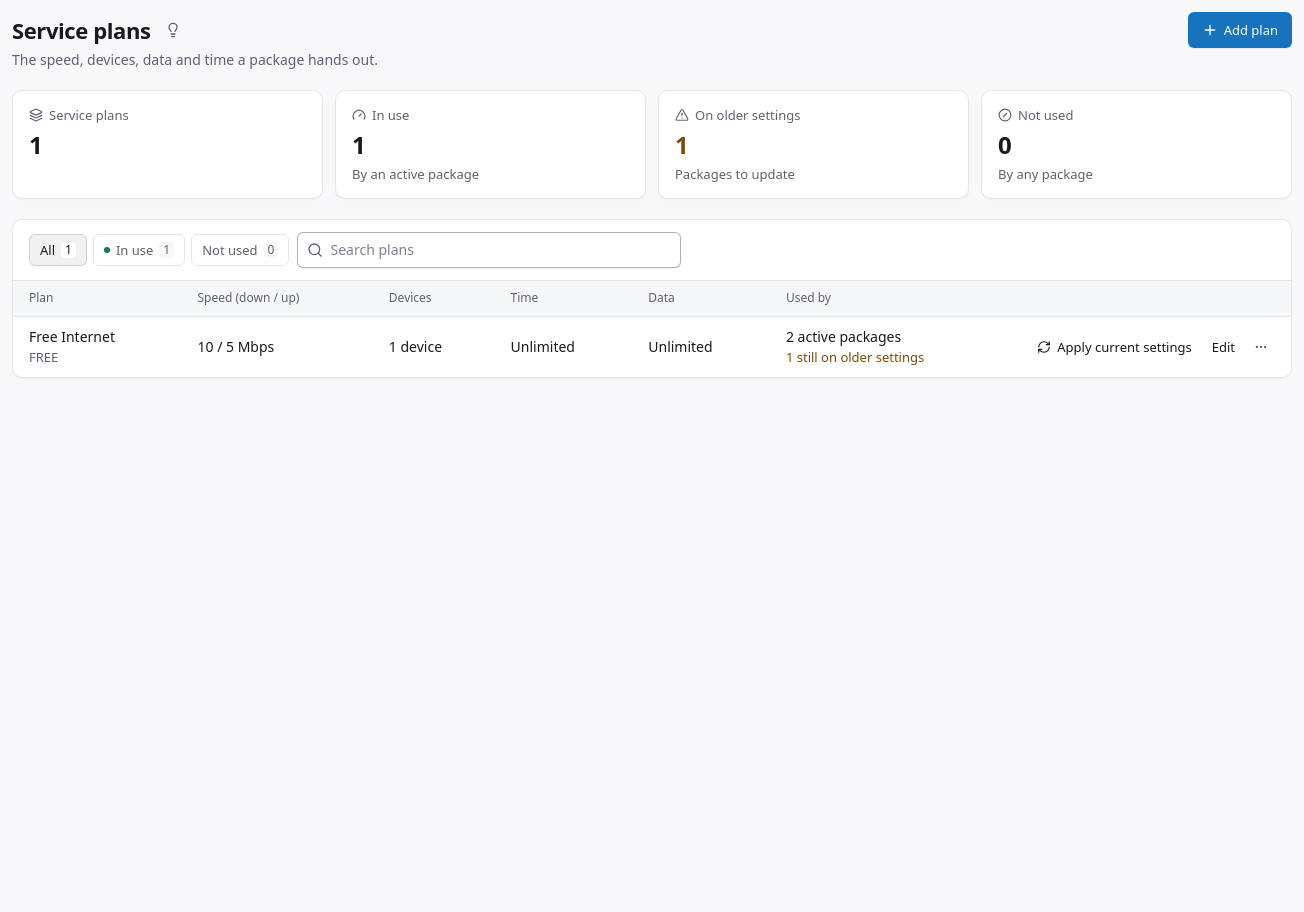
Test: ServicePlansPage — stale package pin › changes NOTHING until the operator picks a package and applies
Click the button with test id "apply-current-FREE" at point(1114, 347), box [1029,333,1200,361]
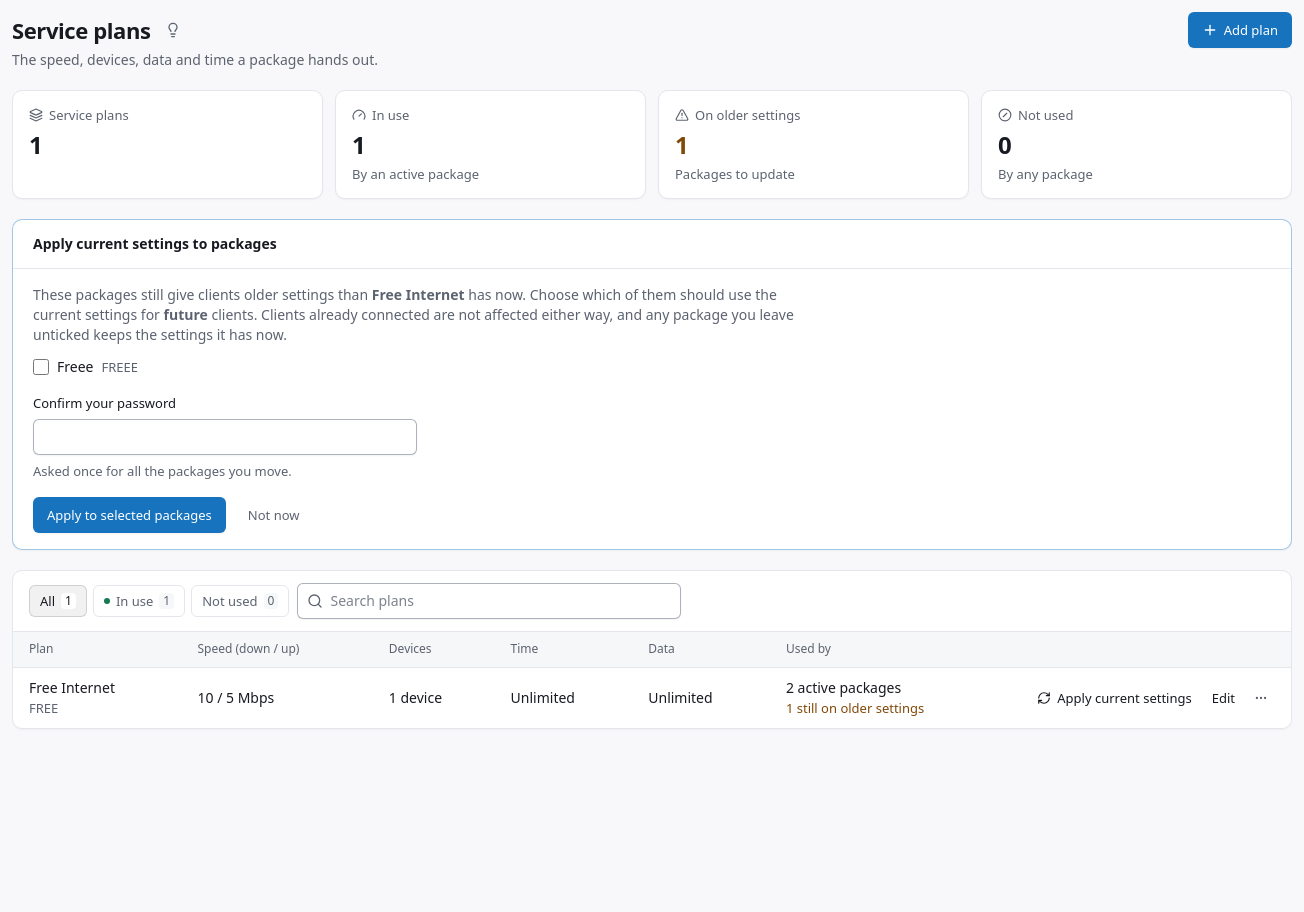
Click the button "Not now" at point(274, 515), box [234,497,314,533]
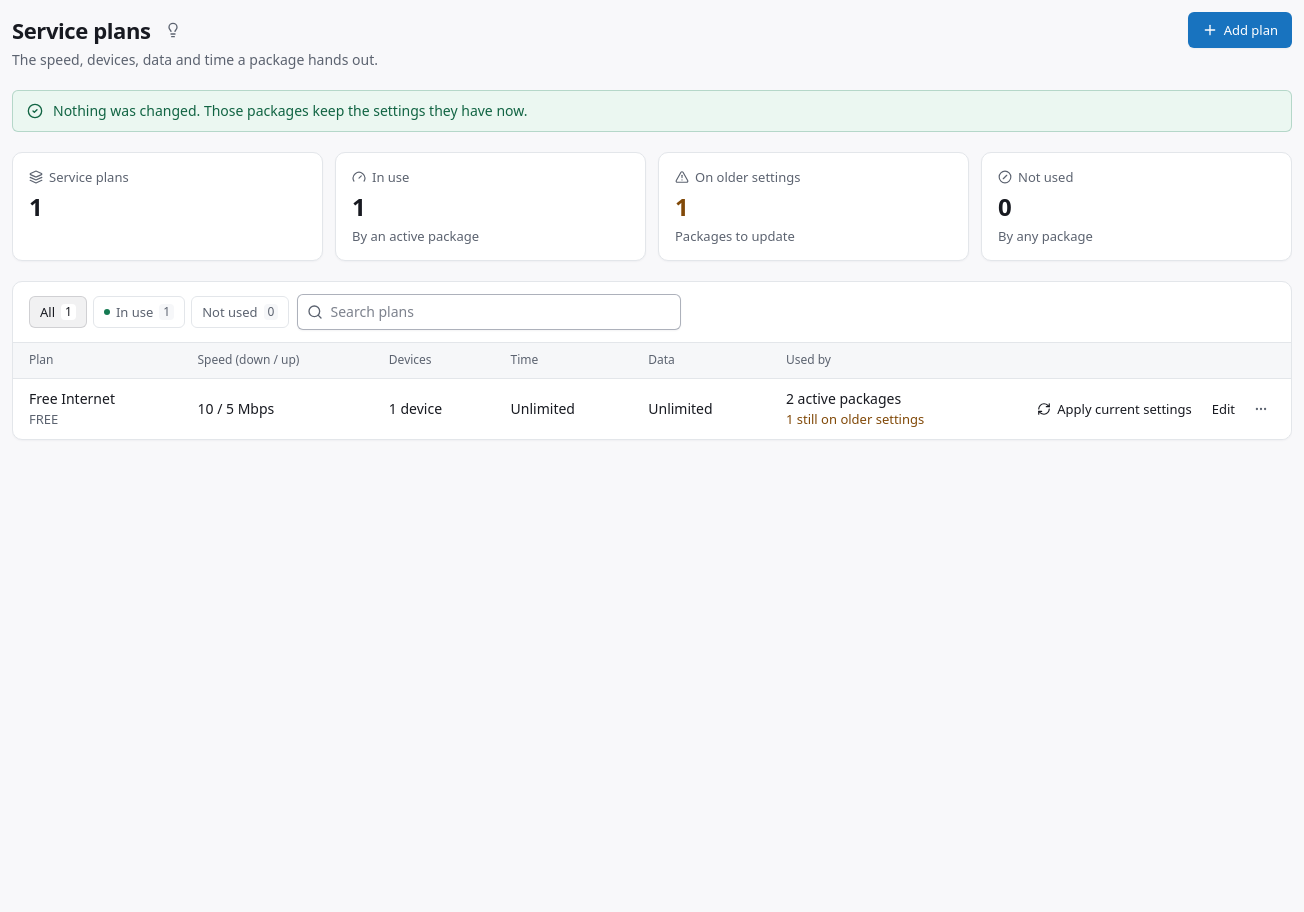
Result: the message shows "Nothing was changed" at [53,101,527,120]
